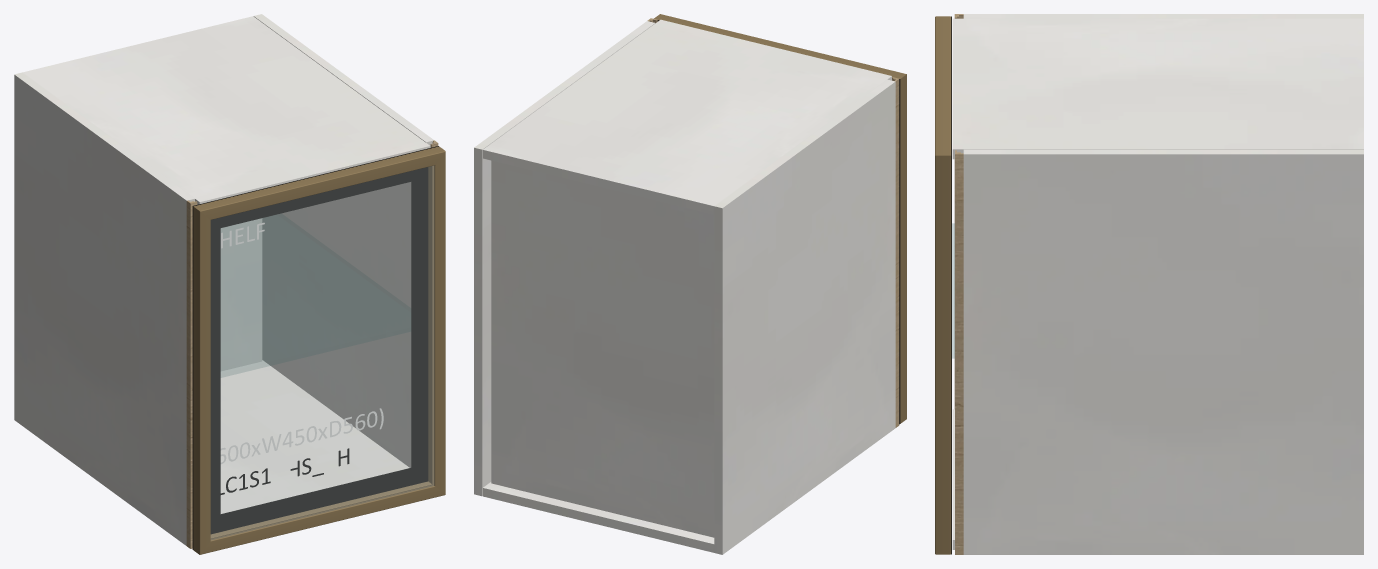
The model's file is LOF-SH-NHX-GL-1SG-RHS-XXX-450-600-560-15.glb.
The picture shows the model from 3 angles, left to right: view 1: azimuth 30°, elevation 25°; view 2: azimuth 150°, elevation 25°; view 3: azimuth 270°, elevation 25°; orthographic projection. The views are drawn at different scales.
Parts seen in each view (by area): view 1: Object_node_4, TP_node_0, TP, TP_node_1, Neon 22 Profile ALU PROF NEON 20 L21XH22.5MM 3MTR S2/405 SEC (×4), TP_node, Object_node_6, TP_node_2, Object_node_8, 2D text_node_0, 2D text_node; view 2: TP_node_2, TP_node_0, TP, TP_node_1, Neon 22 Profile ALU PROF NEON 20 L21XH22.5MM 3MTR S2/405 SEC (×2), TP_node, Object_node_8, Object_node_6; view 3: TP_node_1, TP, Neon 22 Profile ALU PROF NEON 20 L21XH22.5MM 3MTR S2/405 SEC (×2), Object_node_14, TP_node_0, Object_node_6.
Boxes of the visible parts, x1=… form: Object_node_4: x1=211, y1=166, x2=434, y2=539; TP_node_0: x1=14, y1=72, x2=194, y2=545; TP: x1=23, y1=16, x2=430, y2=204; TP_node_1: x1=253, y1=14, x2=433, y2=467; Neon 22 Profile ALU PROF NEON 20 L21XH22.5MM 3MTR S2/405 SEC (×4): x1=193, y1=146, x2=445, y2=554; TP_node: x1=220, y1=360, x2=409, y2=513; Object_node_6: x1=192, y1=146, x2=438, y2=549; TP_node_2: x1=220, y1=218, x2=262, y2=371; Object_node_8: x1=186, y1=200, x2=197, y2=548; 2D text_node_0: x1=220, y1=408, x2=383, y2=464; 2D text_node: x1=220, y1=448, x2=349, y2=494; TP_node_2: x1=491, y1=160, x2=714, y2=537; TP_node_0: x1=714, y1=79, x2=895, y2=554; TP: x1=483, y1=19, x2=891, y2=214; TP_node_1: x1=474, y1=21, x2=655, y2=496; Neon 22 Profile ALU PROF NEON 20 L21XH22.5MM 3MTR S2/405 SEC (×2): x1=654, y1=14, x2=906, y2=423; TP_node: x1=483, y1=482, x2=714, y2=552; Object_node_8: x1=892, y1=77, x2=899, y2=427; Object_node_6: x1=657, y1=20, x2=900, y2=424; TP_node_1: x1=963, y1=149, x2=1363, y2=554; TP: x1=952, y1=18, x2=1363, y2=159; Neon 22 Profile ALU PROF NEON 20 L21XH22.5MM 3MTR S2/405 SEC (×2): x1=935, y1=16, x2=951, y2=554; Object_node_14: x1=955, y1=150, x2=963, y2=554; TP_node_0: x1=963, y1=14, x2=1363, y2=18; Object_node_6: x1=951, y1=16, x2=951, y2=554.
Size of what is drawn, in the model's own units: 0.45 by 0.6 by 0.582.
8 materials, 2 textured.
